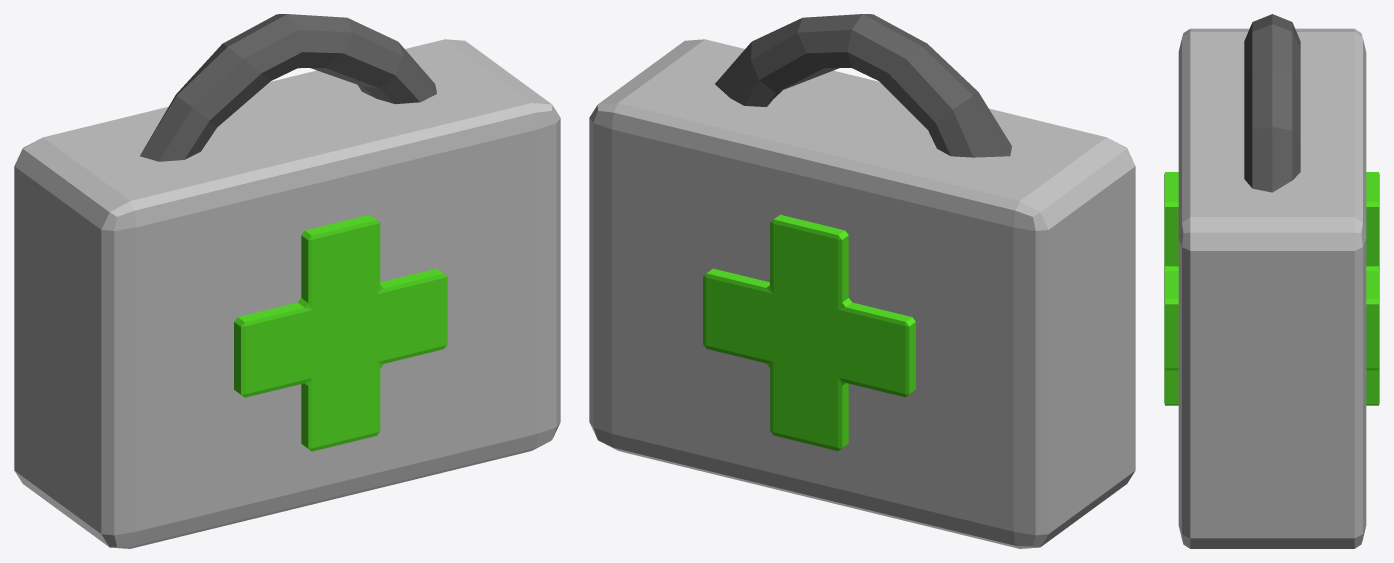
The model's file is medkit.fbx.
The picture shows the model from 3 angles, left to right: view 1: azimuth 30°, elevation 25°; view 2: azimuth 150°, elevation 25°; view 3: azimuth 270°, elevation 25°; orthographic projection. The views are drawn at different scales.
Visible parts, largest first — view 1: Cube, Cube.001, Torus; view 2: Cube, Cube.002, Torus; view 3: Cube, Torus, Cube.001, Cube.002.
Boxes of the visible parts, x1=… form: Cube: x1=14, y1=39, x2=560, y2=548; Cube.001: x1=234, y1=214, x2=447, y2=451; Torus: x1=140, y1=14, x2=436, y2=161; Cube: x1=589, y1=39, x2=1135, y2=548; Cube.002: x1=703, y1=214, x2=915, y2=451; Torus: x1=715, y1=14, x2=1011, y2=157; Cube: x1=1178, y1=28, x2=1366, y2=548; Torus: x1=1244, y1=14, x2=1300, y2=192; Cube.001: x1=1164, y1=172, x2=1178, y2=405; Cube.002: x1=1366, y1=172, x2=1379, y2=405.
Size of the model in its own units: 200 by 189 by 86.09.
